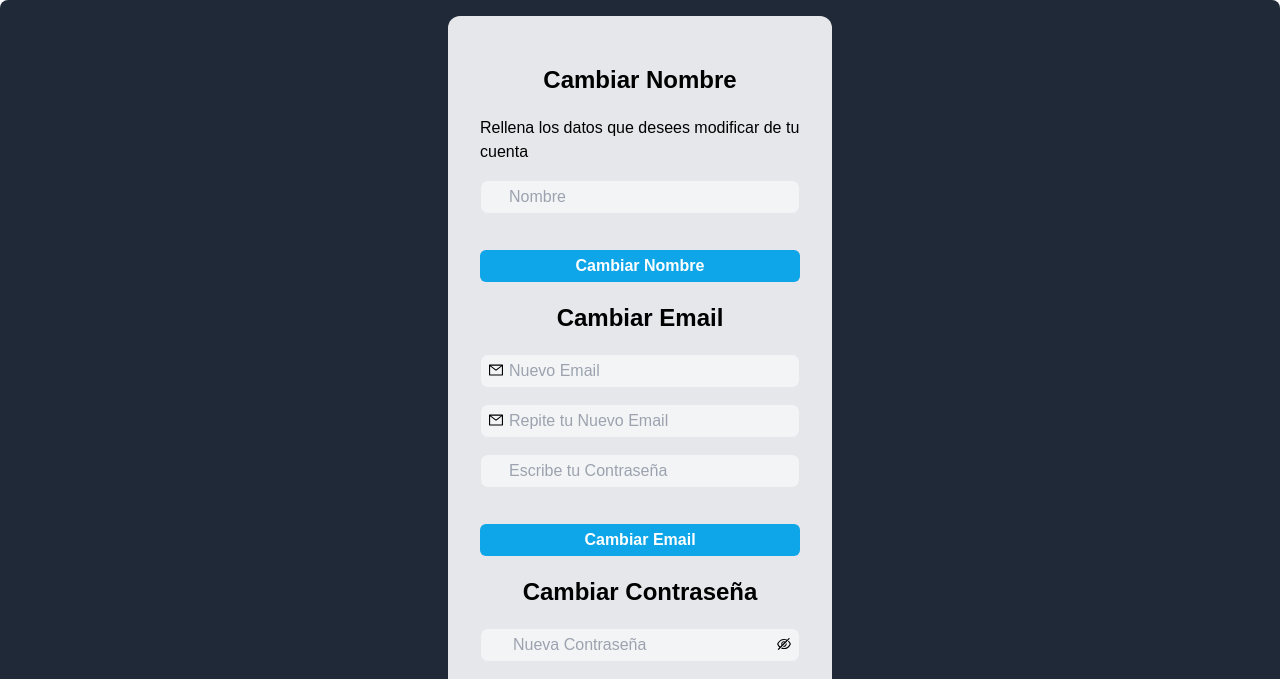
Success message is shown when set_email succeeds
What coordinates should you click on to do the following:
click the button "Cambiar Email"
I would click on:
 (640, 540)
Its box is [480,524,800,556].
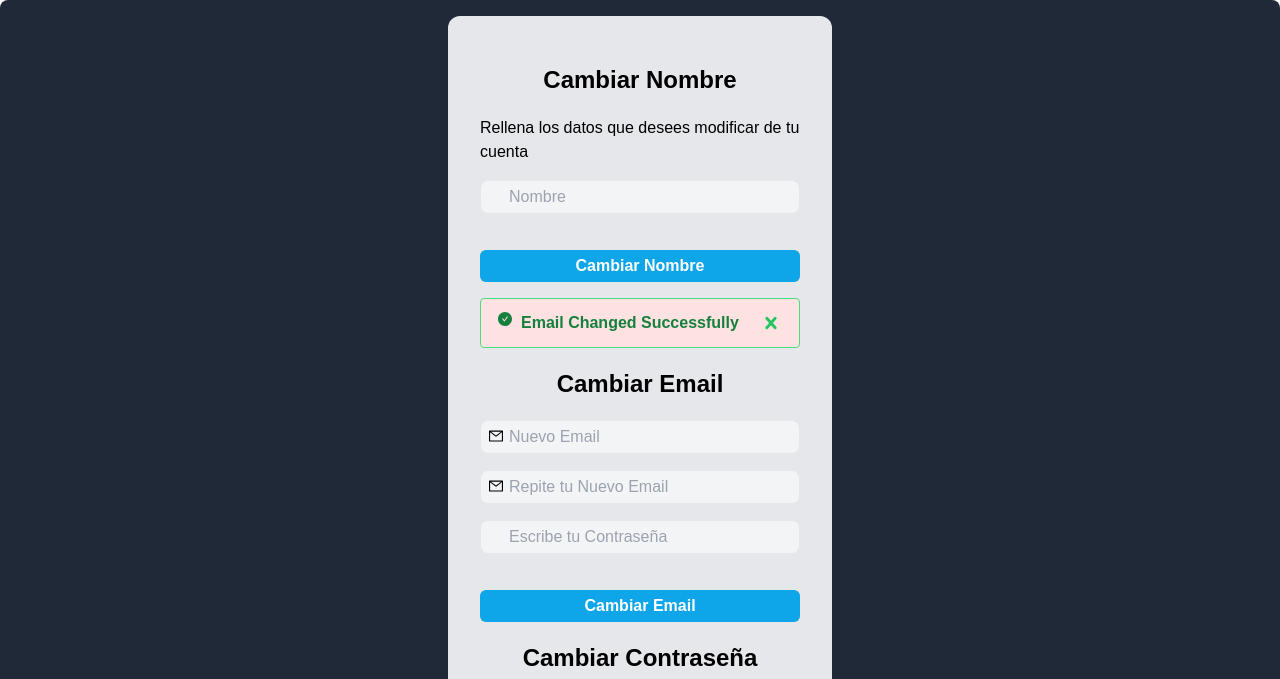
Now the text "Email Changed Successfully" is shown, box [521,311,739,335]
